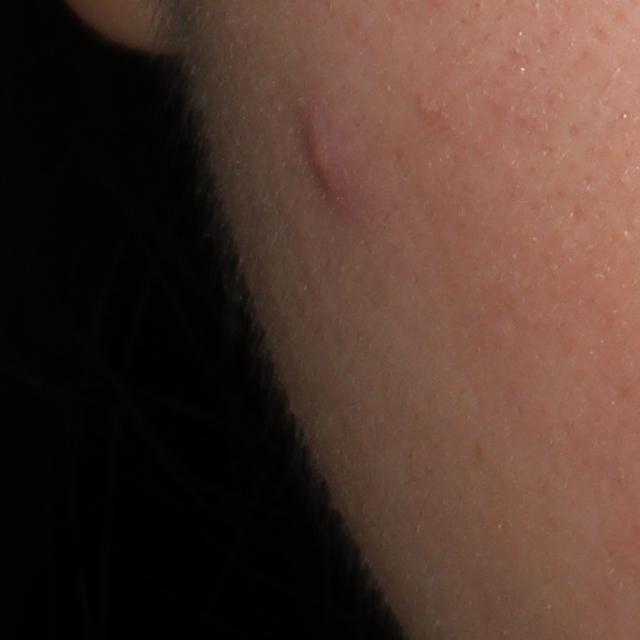papule: (302, 123, 357, 204), (412, 91, 445, 123)
